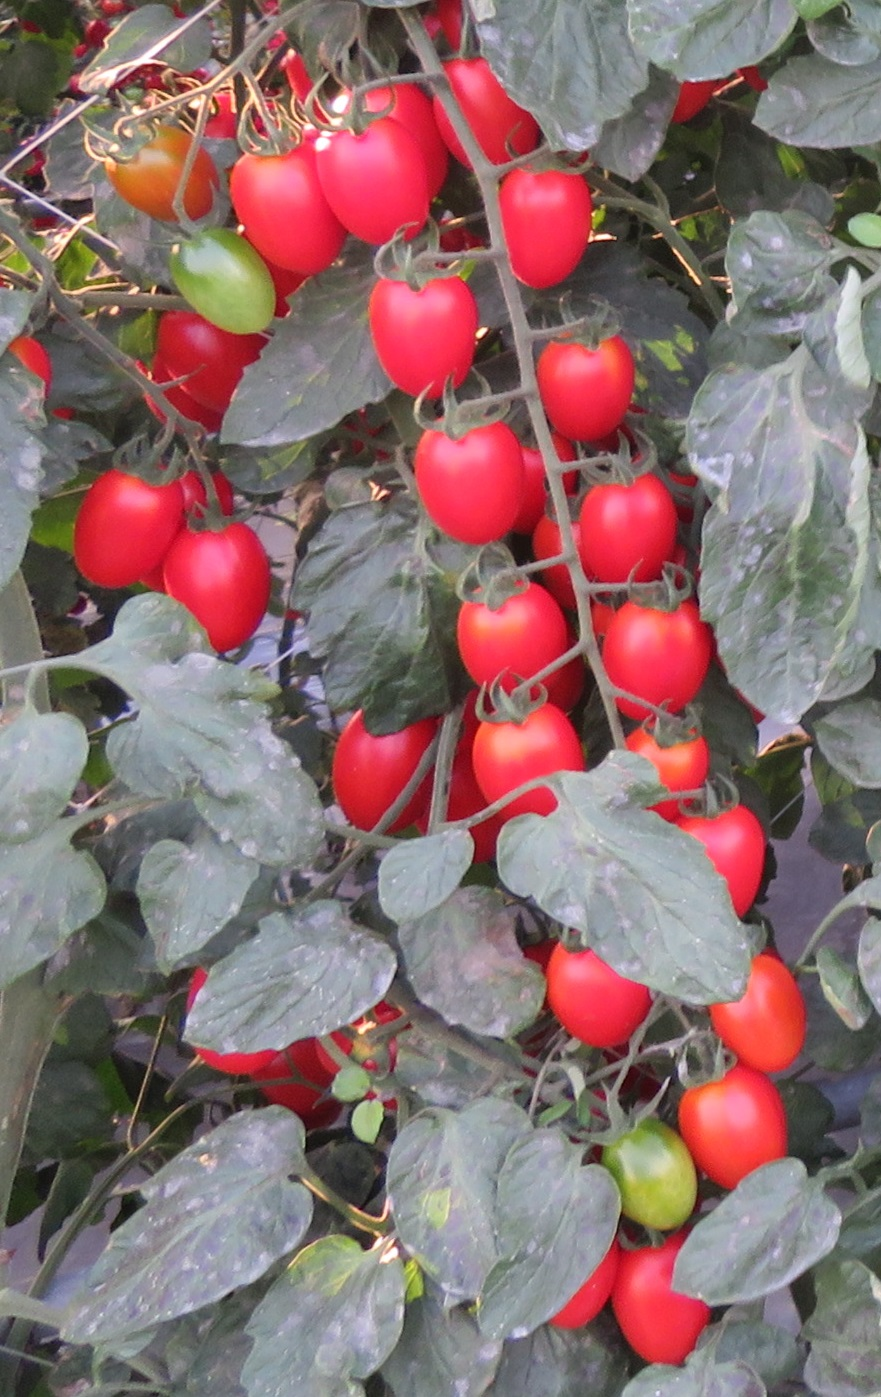green: (172, 225, 291, 338), (603, 1122, 704, 1224)
orange: (92, 114, 226, 224), (684, 1064, 798, 1185), (704, 954, 813, 1079), (542, 934, 655, 1049)
red: (360, 259, 487, 396), (56, 464, 187, 593), (307, 115, 436, 243), (420, 396, 529, 541), (442, 588, 574, 701), (234, 130, 339, 272), (331, 706, 440, 834), (431, 51, 544, 173), (174, 521, 276, 653), (575, 464, 684, 586), (472, 704, 592, 811), (589, 606, 710, 708), (531, 325, 633, 438), (673, 802, 767, 924), (501, 153, 585, 283), (617, 1237, 697, 1369), (155, 312, 254, 415), (616, 718, 709, 825), (184, 966, 276, 1071), (555, 1241, 619, 1334)
